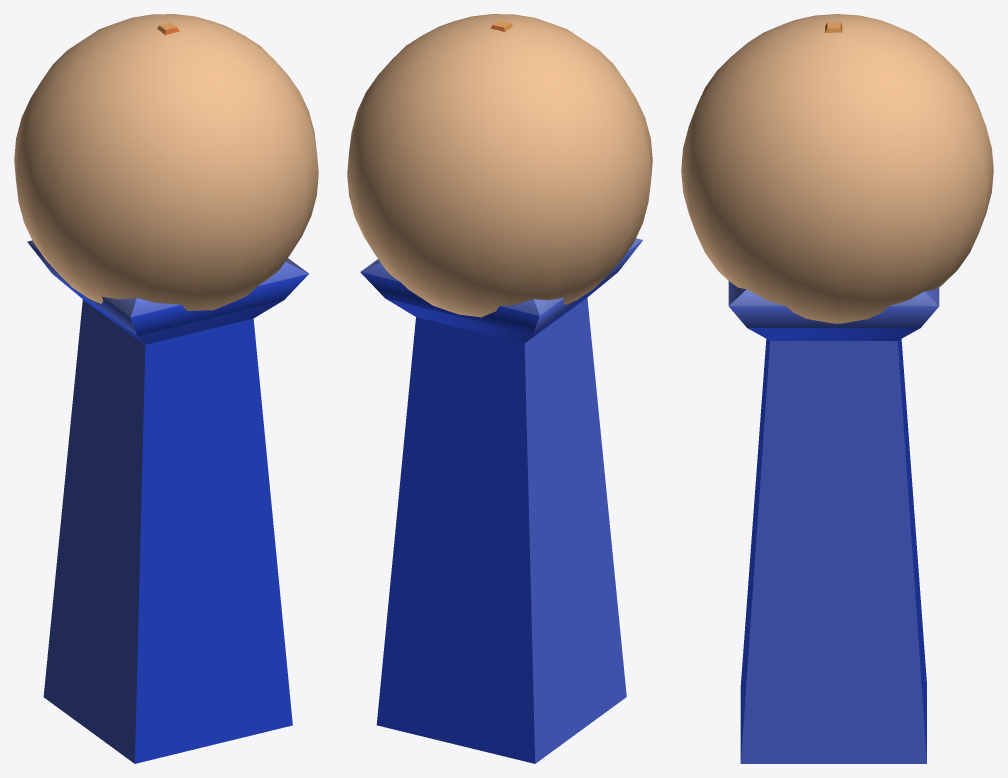
The model's file is lamp_pillar_01.fbx.
The picture shows the model from 3 angles, left to right: view 1: azimuth 30°, elevation 25°; view 2: azimuth 150°, elevation 25°; view 3: azimuth 270°, elevation 25°; orthographic projection. The views are drawn at different scales.
Visible parts, largest first — view 1: pillar_01, light_01; view 2: pillar_01, light_01; view 3: pillar_01, light_01.
Boxes of the visible parts, x1,y1,x2,y2 form: pillar_01: (27,240,308,763); light_01: (14,14,318,310); pillar_01: (360,238,642,763); light_01: (347,14,652,317); pillar_01: (728,281,939,763); light_01: (681,14,993,323).
Bounding box in the file's own units: 59.28 × 146 × 59.28.
2 materials, 2 textured.
